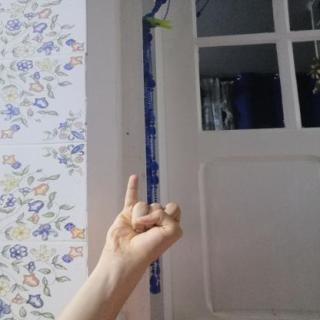MEEM: (96, 168, 189, 269)
